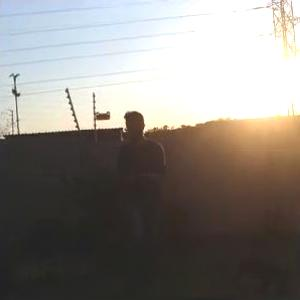follow: (110, 106, 170, 299)
